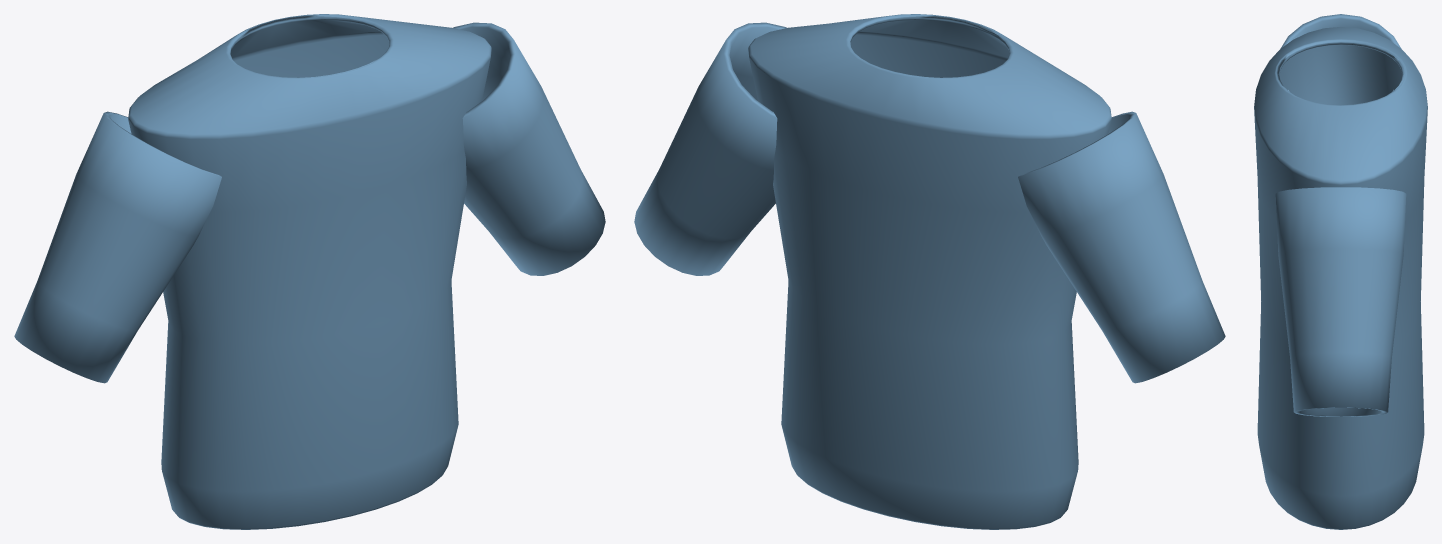
File: camisa-ra.glb
The picture shows the model from 3 angles, left to right: view 1: azimuth 30°, elevation 25°; view 2: azimuth 150°, elevation 25°; view 3: azimuth 270°, elevation 25°; orthographic projection. The views are drawn at different scales.
Parts seen in each view (by area): view 1: Oxford shirt fabric body, Oxford shirt sleeve, Oxford shirt sleeve.001; view 2: Oxford shirt fabric body, Oxford shirt sleeve, Oxford shirt sleeve.001; view 3: Oxford shirt fabric body, Oxford shirt sleeve.001, Oxford shirt sleeve.
Boxes of the visible parts, box(x1,y1,x2,y2) form: Oxford shirt fabric body: box(128, 14, 491, 529); Oxford shirt sleeve: box(14, 111, 221, 383); Oxford shirt sleeve.001: box(453, 22, 605, 275); Oxford shirt fabric body: box(748, 14, 1111, 529); Oxford shirt sleeve: box(1018, 111, 1225, 383); Oxford shirt sleeve.001: box(634, 22, 786, 275); Oxford shirt fabric body: box(1254, 27, 1427, 529); Oxford shirt sleeve.001: box(1275, 187, 1406, 416); Oxford shirt sleeve: box(1280, 14, 1401, 91).
Bounding box in the file's own units: 0.8317 × 0.6079 × 0.2396.
